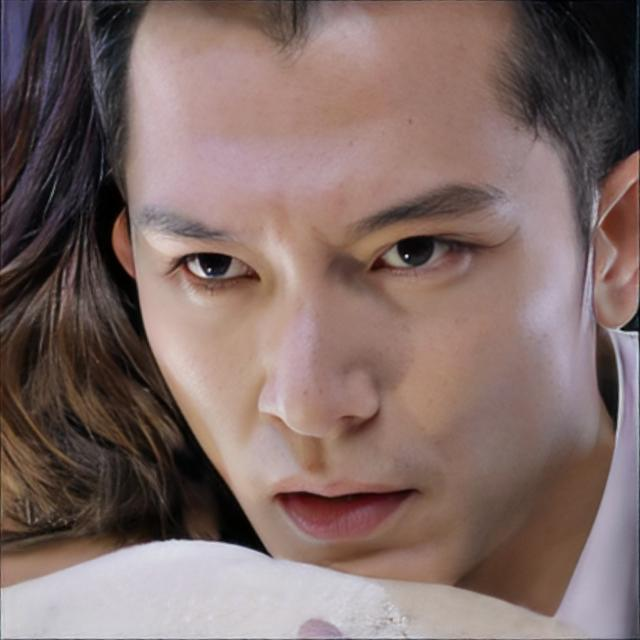anger: (128, 11, 570, 592)
